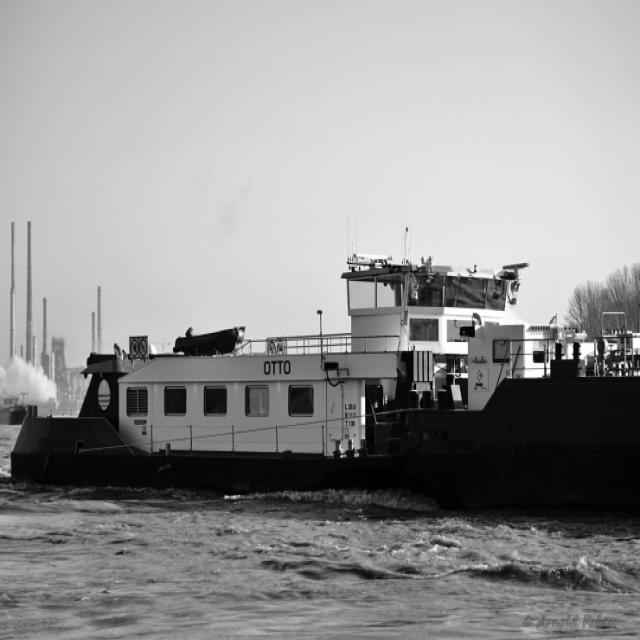tugboat: (7, 256, 543, 505)
